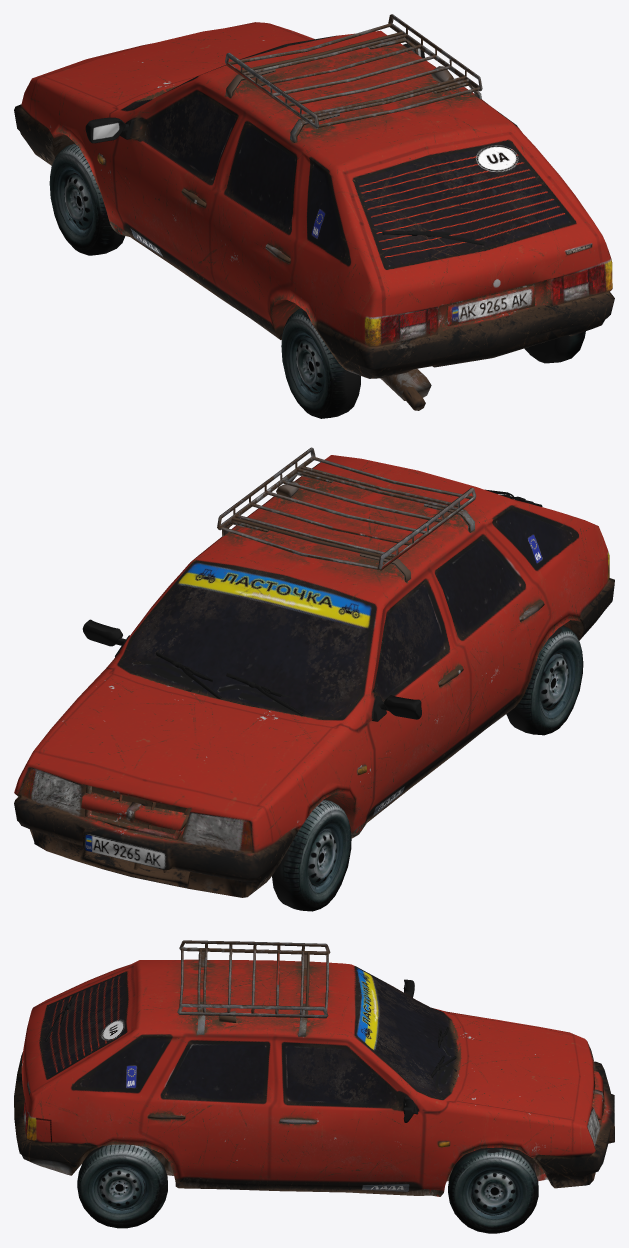
3 views of the same model, one above another, from view 1: azimuth 30°, elevation 25°; view 2: azimuth 150°, elevation 25°; view 3: azimuth 270°, elevation 25° (orthographic). The views are drawn at different scales.
Visible parts, largest first — view 1: lada_shell, lada_shell1_28, lada_shell1_29, lada_shell1_27, Mirror1; view 2: lada_shell, lada_shell1_29, lada_shell1_28, Mirror1, Cleaner1; view 3: lada_shell, lada_shell1_26, lada_shell1_27, Cleaner1, Mirror1.
Part boxes in pixels (left/top/right/bottom): lada_shell: left=14, top=14, right=614, bottom=410; lada_shell1_28: left=281, top=308, right=360, bottom=418; lada_shell1_29: left=49, top=143, right=125, bottom=255; lada_shell1_27: left=524, top=331, right=585, bottom=363; Mirror1: left=85, top=43, right=424, bottom=143; lada_shell: left=14, top=447, right=614, bottom=897; lada_shell1_29: left=272, top=799, right=351, bottom=911; lada_shell1_28: left=506, top=625, right=583, bottom=735; Mirror1: left=82, top=619, right=421, bottom=721; Cleaner1: left=155, top=489, right=542, bottom=715; lada_shell: left=14, top=940, right=614, bottom=1196; lada_shell1_26: left=448, top=1147, right=538, bottom=1233; lada_shell1_27: left=77, top=1144, right=167, bottom=1228; Cleaner1: left=44, top=993, right=456, bottom=1077; Mirror1: left=403, top=979, right=418, bottom=1122.
Bounding box in the file's own units: 98.42 × 75.42 × 191.
7 materials, 7 textured.
